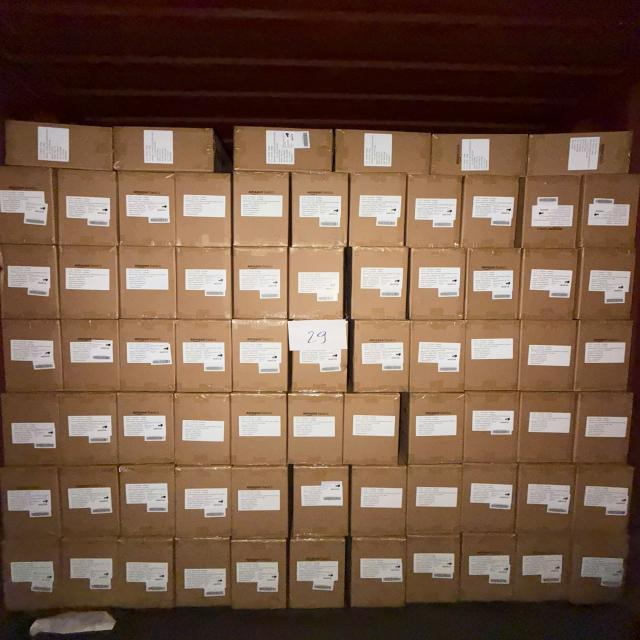Carton: (4, 391, 96, 467), (6, 122, 116, 171), (55, 168, 119, 246), (115, 534, 179, 612), (569, 530, 632, 607), (58, 536, 120, 613), (0, 537, 61, 615), (59, 247, 121, 323), (113, 128, 215, 174), (528, 133, 634, 177), (0, 166, 58, 246), (0, 246, 60, 323), (0, 464, 62, 538), (348, 248, 408, 324), (233, 128, 334, 173), (117, 170, 176, 247), (234, 169, 292, 247), (2, 320, 62, 395), (520, 176, 580, 250), (520, 249, 580, 323), (573, 392, 633, 466), (340, 393, 400, 467), (289, 320, 349, 394), (350, 318, 409, 393), (578, 173, 637, 248), (404, 392, 463, 467), (333, 129, 431, 174), (348, 171, 406, 247), (230, 464, 288, 540), (120, 248, 178, 324), (60, 466, 121, 538), (178, 171, 235, 248), (294, 171, 351, 248), (463, 175, 522, 249), (519, 318, 578, 392), (176, 393, 234, 468), (178, 247, 236, 322), (118, 317, 176, 392), (350, 464, 408, 539), (228, 393, 286, 468), (175, 464, 233, 539), (118, 393, 176, 468), (405, 173, 462, 249), (61, 391, 118, 467), (62, 319, 121, 392), (288, 538, 347, 611), (294, 464, 352, 538), (406, 248, 464, 322), (521, 393, 579, 467), (233, 318, 290, 393), (348, 538, 405, 613), (516, 462, 576, 533), (288, 248, 346, 321), (286, 394, 344, 467), (178, 319, 235, 393), (229, 538, 286, 612), (118, 464, 175, 538), (577, 250, 634, 324), (175, 536, 232, 610), (432, 133, 530, 176), (233, 247, 289, 322), (404, 463, 461, 536), (574, 463, 634, 532), (575, 321, 633, 392), (466, 392, 520, 468), (461, 534, 517, 607), (408, 320, 463, 394), (406, 536, 462, 608), (464, 462, 519, 535), (517, 534, 572, 607), (468, 319, 522, 392), (469, 250, 522, 324)
